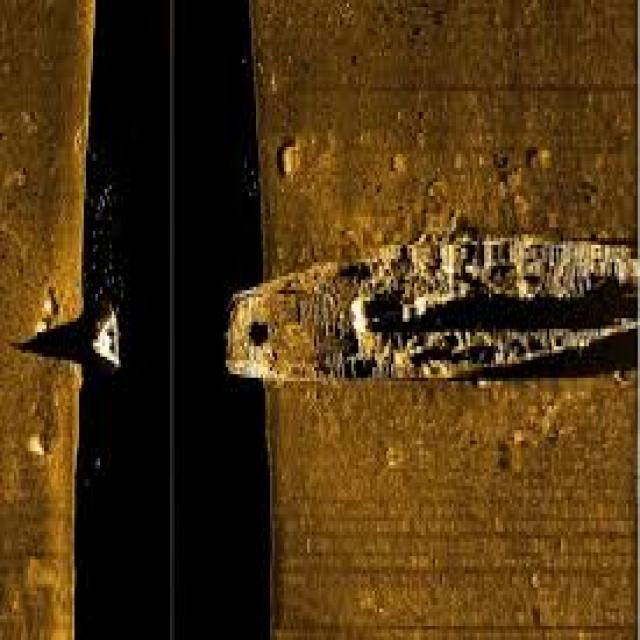ship: (221, 220, 638, 392)
